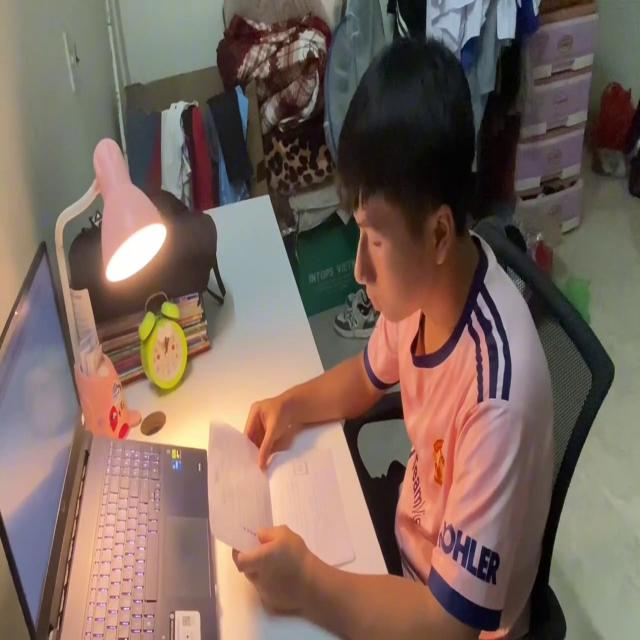book: (208, 415, 352, 581)
laptop: (0, 235, 215, 640)
student: (228, 30, 556, 640)
